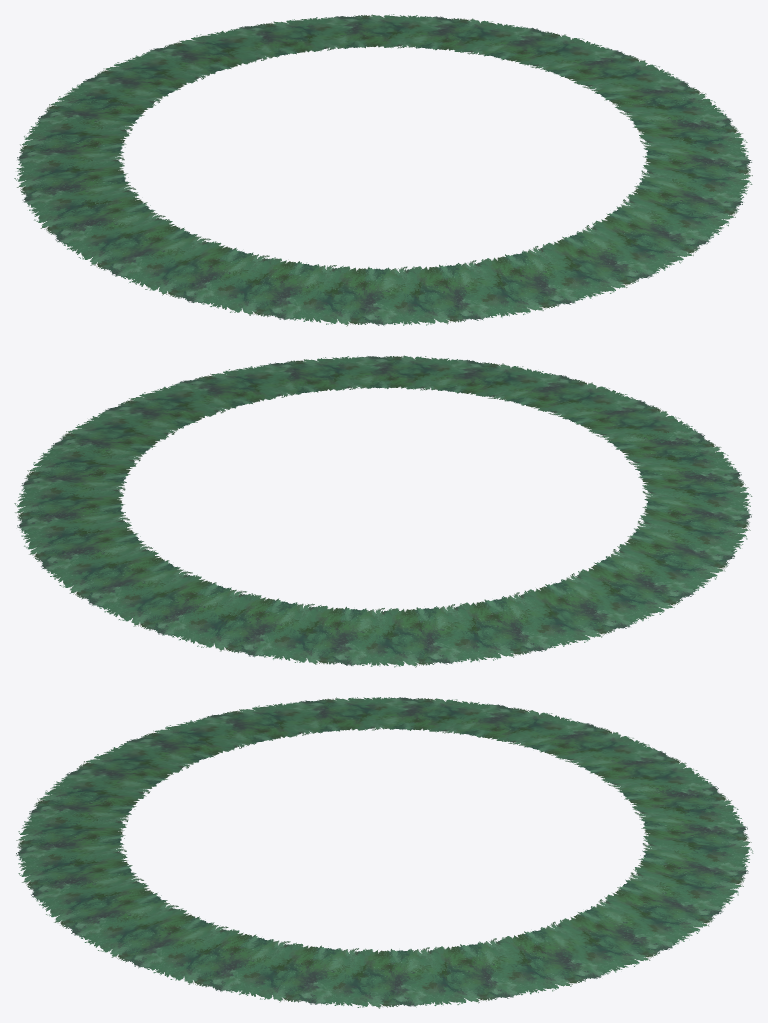
Rendered from grass_mesh_02.fbx.
3 views of the same model, one above another, from view 1: azimuth 30°, elevation 25°; view 2: azimuth 150°, elevation 25°; view 3: azimuth 270°, elevation 25° (orthographic).
Visible parts, largest first — view 1: grass_mesh_02; view 2: grass_mesh_02; view 3: grass_mesh_02.
Part boxes in pixels (x1,y1,x2,y2): grass_mesh_02: [14, 14, 752, 326]; grass_mesh_02: [14, 355, 752, 667]; grass_mesh_02: [16, 697, 753, 1008].
Size of the model in its own units: 67.62 by 1.33 by 67.62.
